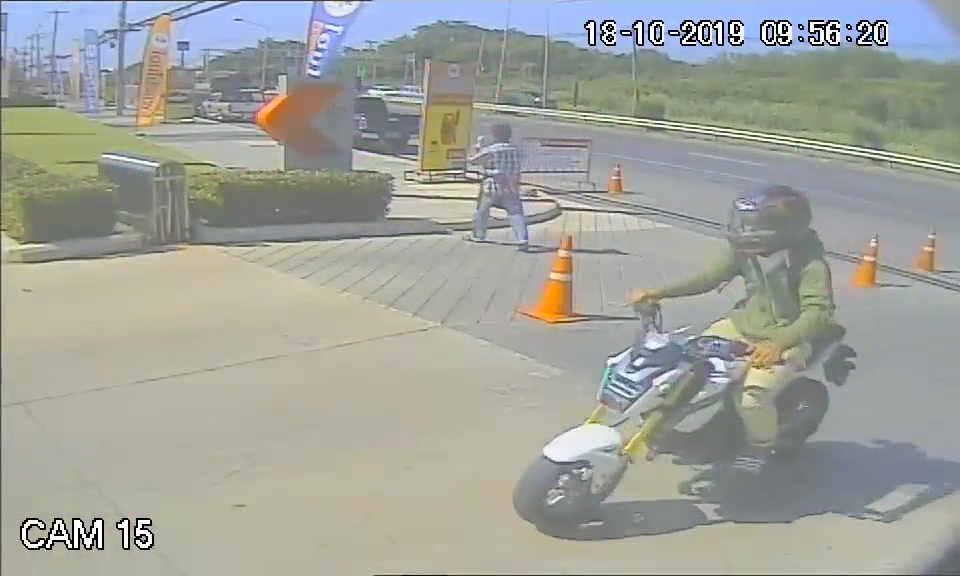motorcycle: (510, 293, 862, 531)
